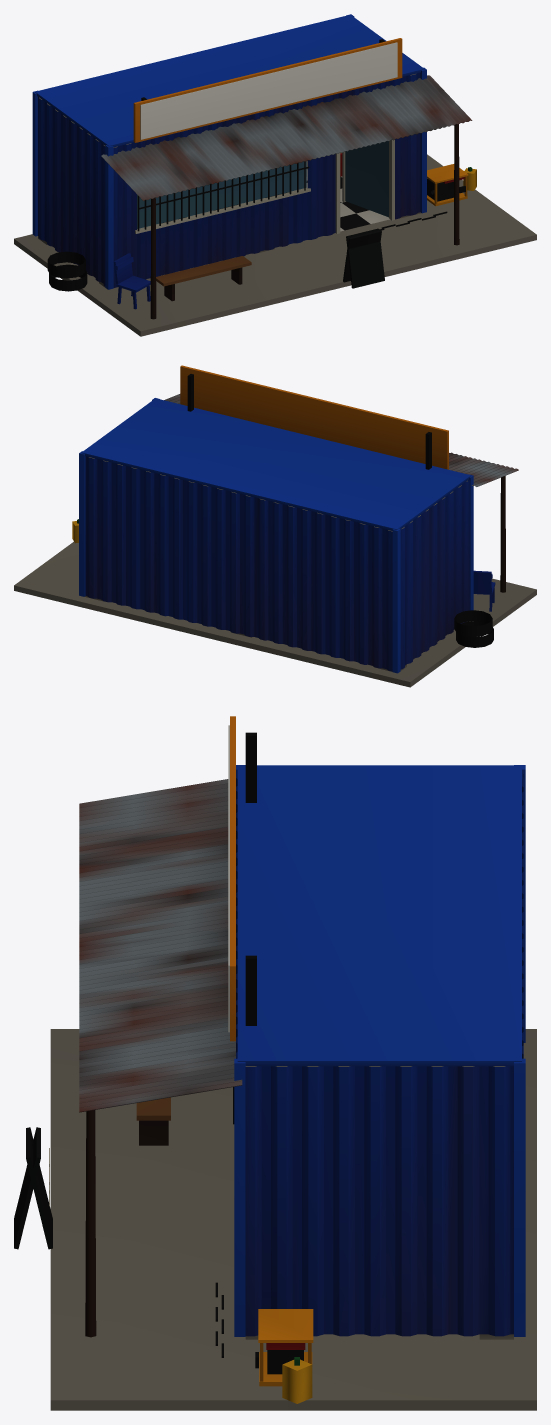
The model's file is bb_barber.glb.
3 views of the same model, one above another, from view 1: azimuth 30°, elevation 25°; view 2: azimuth 150°, elevation 25°; view 3: azimuth 270°, elevation 25° (orthographic). The views are drawn at different scales.
Parts seen in each view (by area): view 1: bb_barber; view 2: bb_barber; view 3: bb_barber.
Part boxes in pixels (left/top/right/bottom): bb_barber: left=14, top=14, right=536, bottom=336; bb_barber: left=14, top=365, right=536, bottom=687; bb_barber: left=14, top=716, right=536, bottom=1410.
Bounding box in the file's own units: 8.16 × 3.48 × 4.56.
